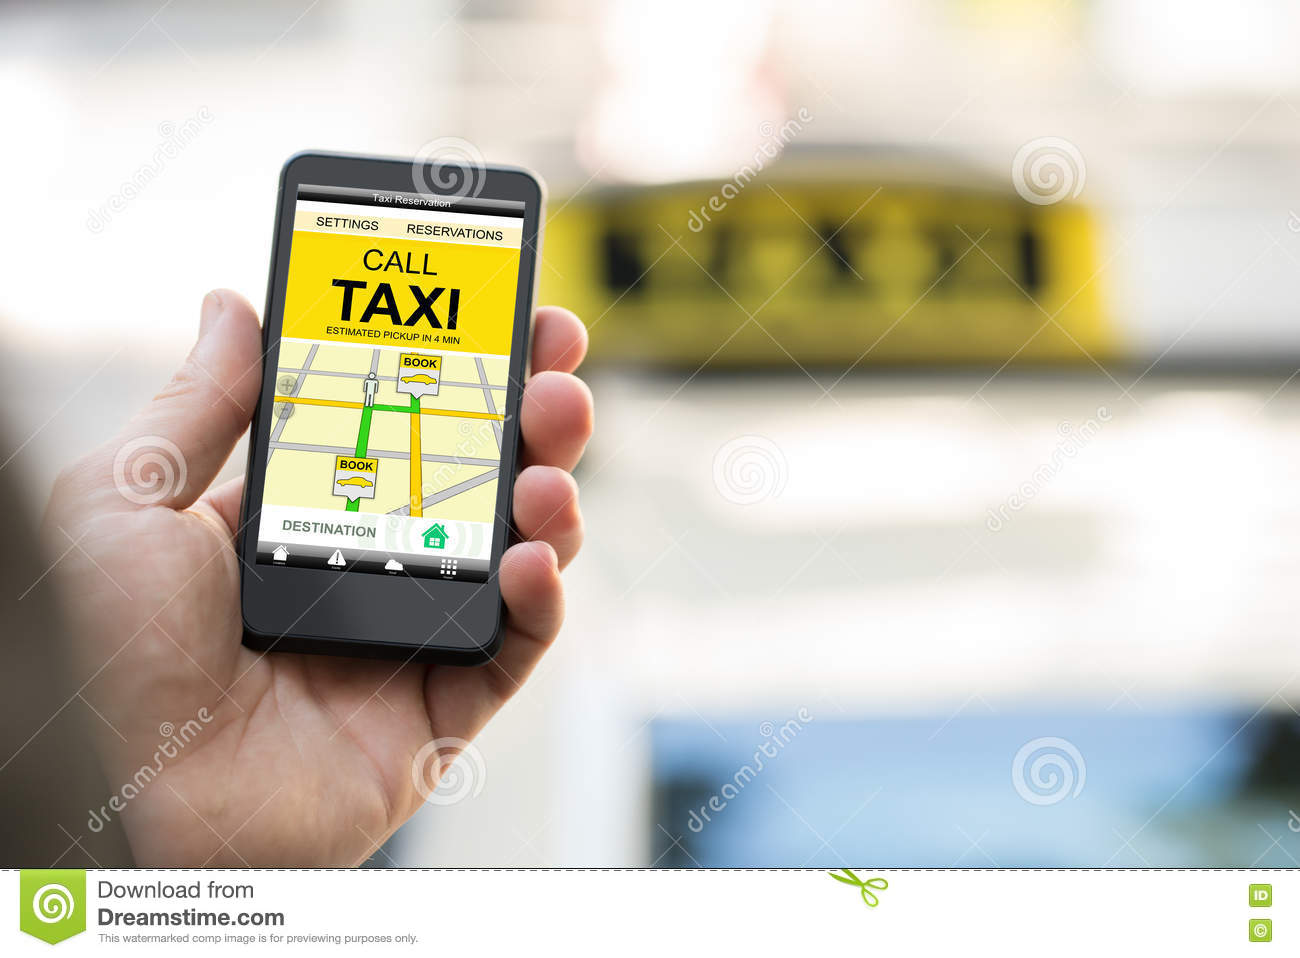smartphone: (235, 149, 549, 661)
